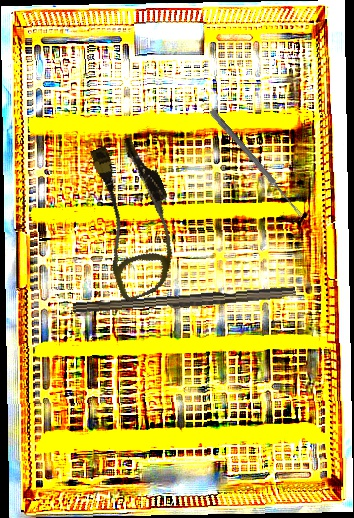Cannula: (71, 131, 197, 304)
Scalpel Handle: (72, 283, 297, 320)
Surgical Spoon: (208, 108, 305, 219)
